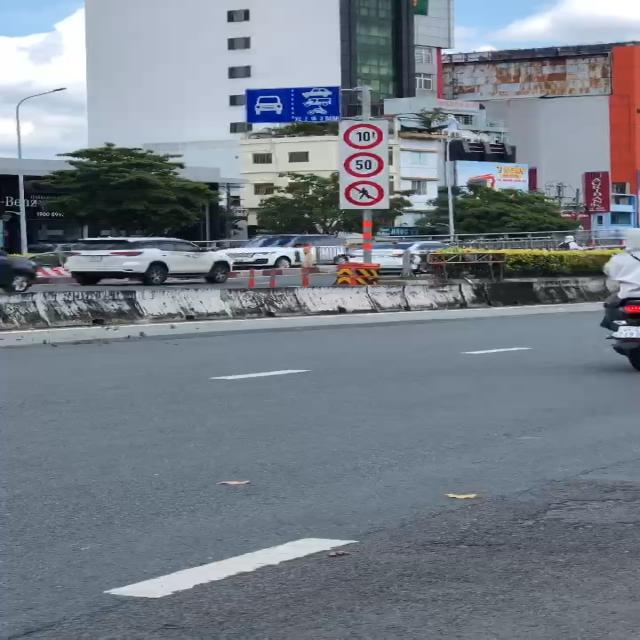Bien bao cam nguoi di bo: (341, 178, 388, 208)
Bien bao toc do toi da cho phep: (340, 152, 388, 179)
